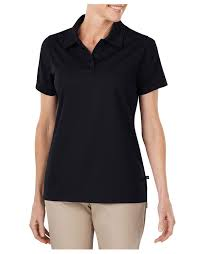C_polo shirt: (31, 17, 173, 201)
